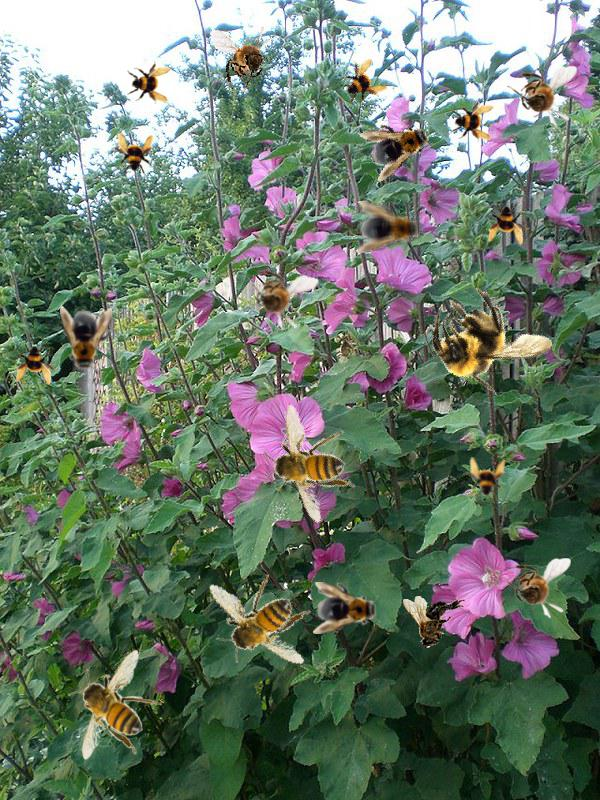Bee: (413, 267, 564, 414), (236, 388, 379, 534), (192, 560, 323, 680), (68, 649, 162, 760), (235, 258, 320, 338), (357, 107, 441, 183), (209, 17, 284, 99), (507, 66, 577, 127), (501, 558, 571, 619), (330, 51, 392, 113), (313, 582, 381, 634), (60, 306, 112, 374), (356, 201, 424, 253), (403, 596, 465, 649), (450, 98, 494, 142), (486, 201, 530, 245), (111, 132, 155, 176), (14, 341, 58, 385), (463, 457, 507, 501), (127, 60, 171, 104)
